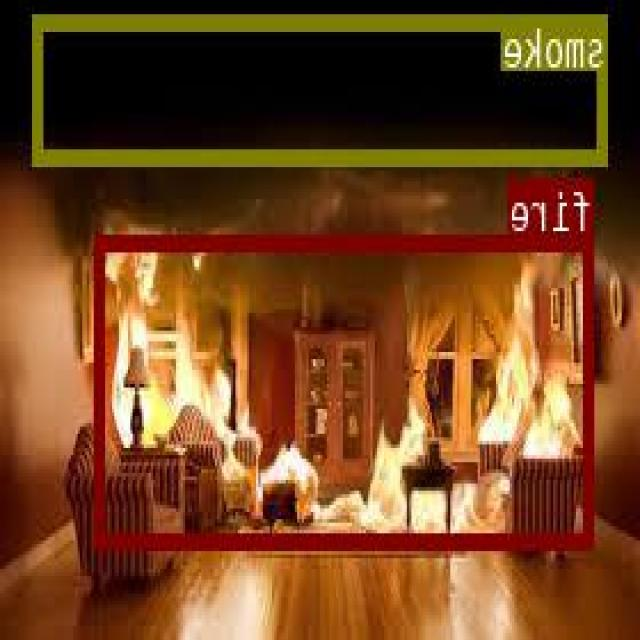fire: (96, 234, 595, 547)
smoke: (35, 14, 610, 163)
